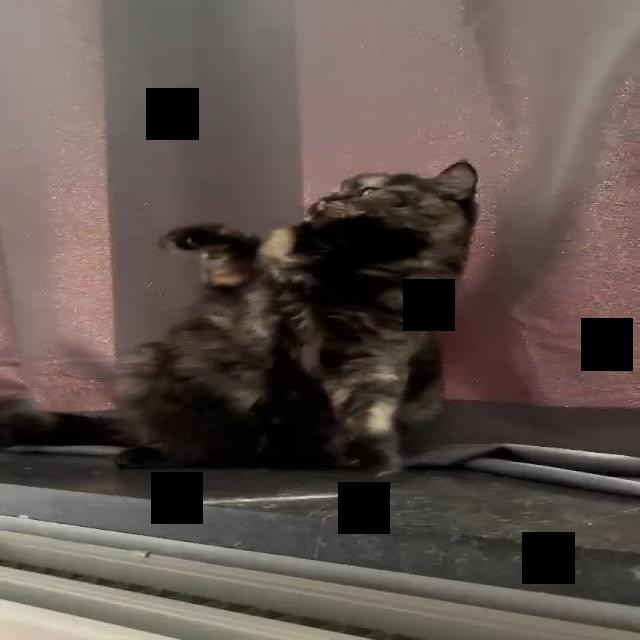authorized: (253, 160, 480, 476), (107, 221, 340, 470)
